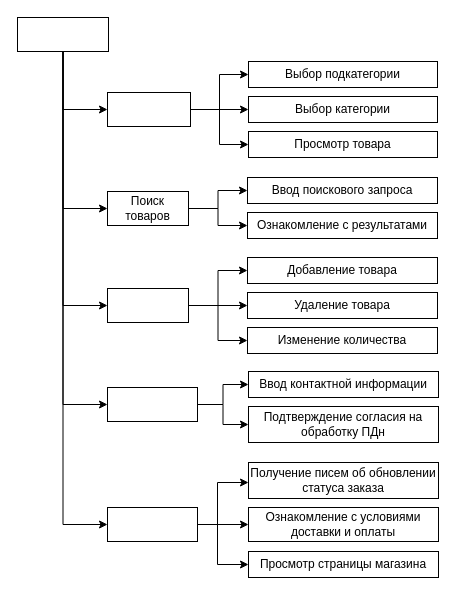
Some shapes in this 456 by 595 pixel diagram are drawn without their labels. The shapes that lost their labels are listed below. From the top down, each one's box as (x1, y1, x2, y2) in pixels, then its label:
(16, 16, 108, 52): Функции покупателя
(106, 92, 190, 126): Просмотр каталога
(106, 288, 188, 322): Работа с корзиной
(106, 386, 198, 422): Оформление заказа
(106, 506, 198, 542): Получение информации
